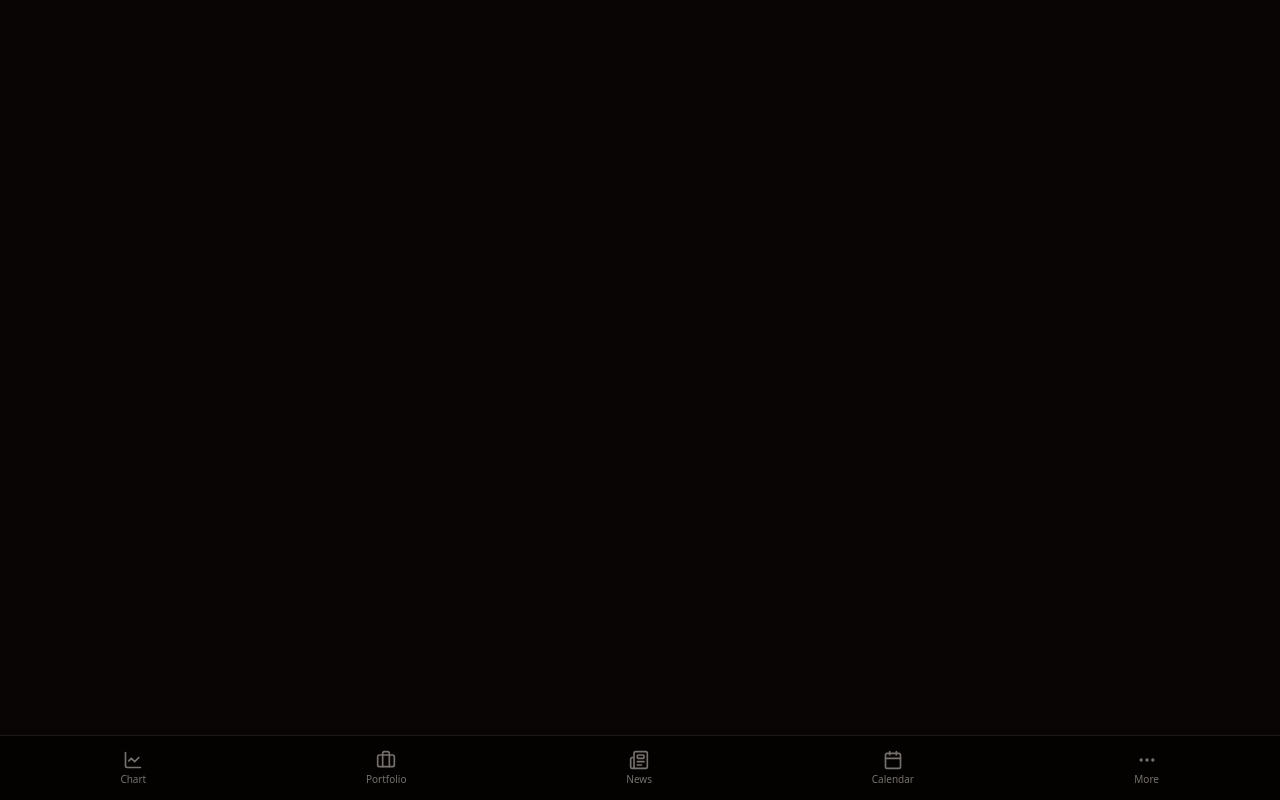
Test: MobileBottomNav › More Menu › should show more menu when More button is clicked
What coordinates should you click on to do the following:
click the button "More"
I would click on:
 (1147, 768)
Its box is x1=1117 y1=742 x2=1177 y2=794.
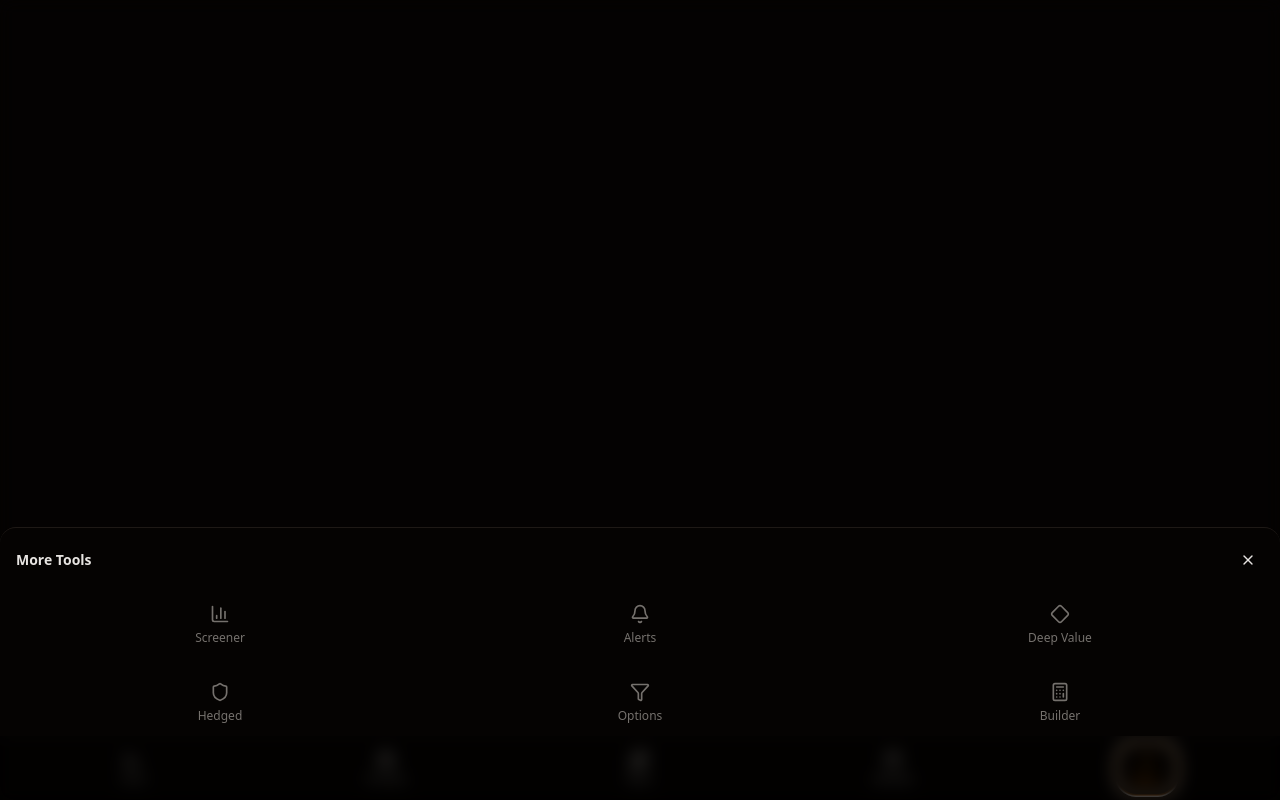
Check: the text "More Tools" is shown, box x1=16 y1=550 x2=92 y2=570
